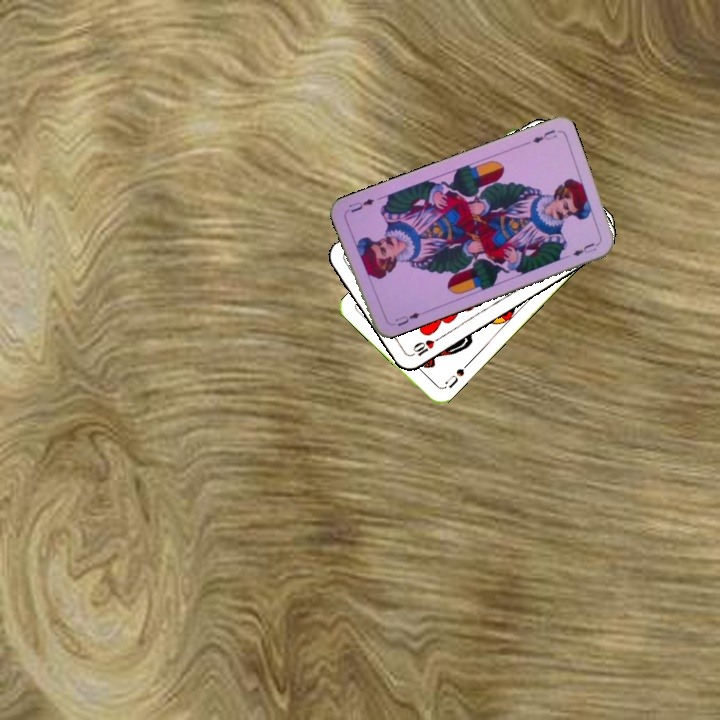EU: (391, 308, 422, 329), (528, 125, 559, 146)
H10: (406, 333, 443, 359)
SU: (441, 359, 471, 391)
